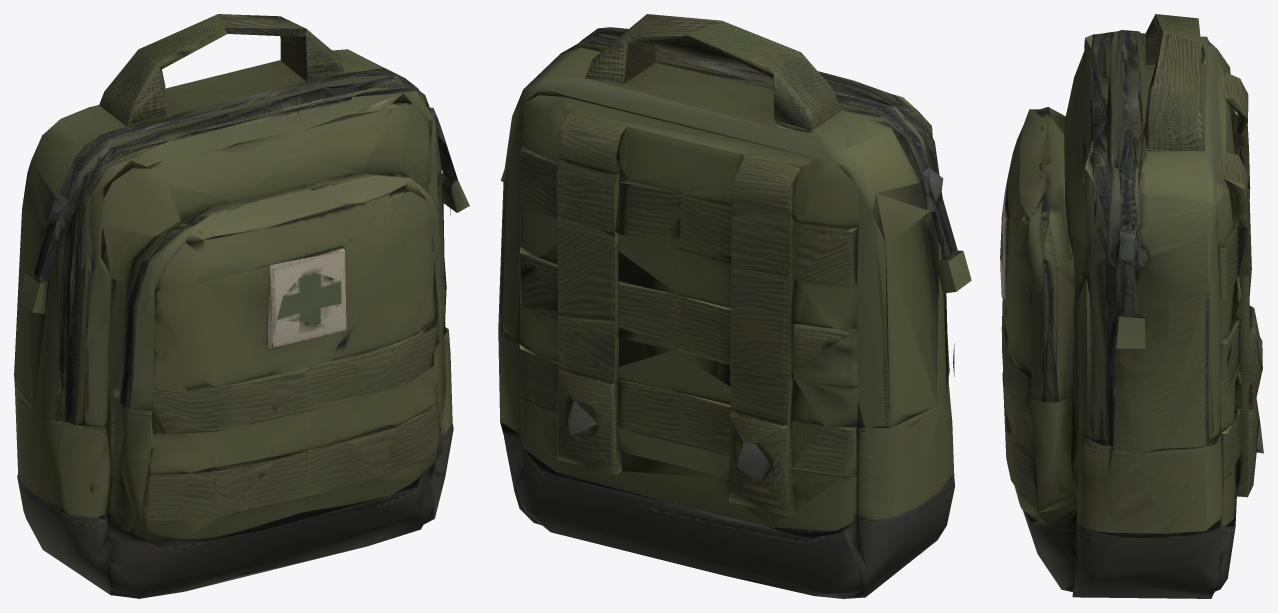
The model's file is Asset_04_LOD2.fbx.
3 renders of one model, left to right at view 1: azimuth 30°, elevation 25°; view 2: azimuth 150°, elevation 25°; view 3: azimuth 270°, elevation 25°, orthographic. The views are drawn at different scales.
Parts seen in each view (by area): view 1: Asset_04_LOD2; view 2: Asset_04_LOD2; view 3: Asset_04_LOD2.
Part boxes in pixels (left/top/right/bottom): Asset_04_LOD2: left=14, top=14, right=469, bottom=598; Asset_04_LOD2: left=498, top=14, right=971, bottom=598; Asset_04_LOD2: left=1000, top=14, right=1263, bottom=598.
Bounding box in the file's own units: 0.2536 × 0.2808 × 0.1354.
Materials: 1 (1 with a texture image).
